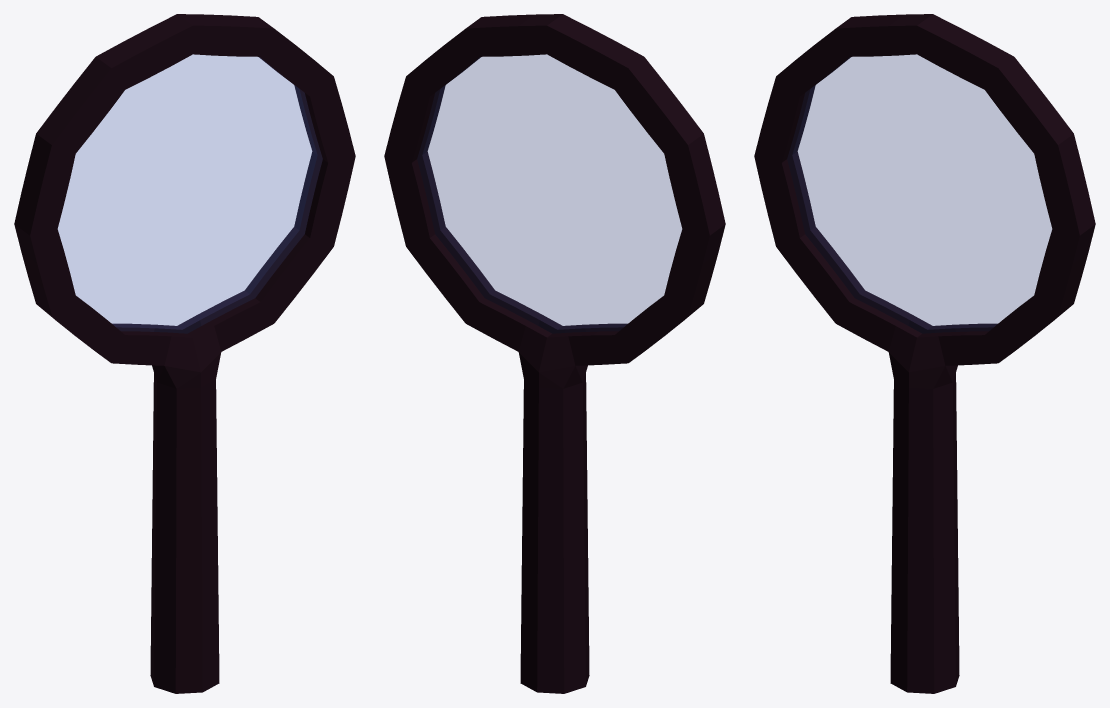
Rendered from magnyfiyng glass.fbx_Collection.fbx.
The picture shows the model from 3 angles, left to right: view 1: azimuth 30°, elevation 25°; view 2: azimuth 150°, elevation 25°; view 3: azimuth 330°, elevation 25°; orthographic projection.
Visible parts, largest first — view 1: Circle; view 2: Circle; view 3: Circle.
Part boxes in pixels (x1,y1,x2,y2): Circle: (14, 14, 355, 693); Circle: (384, 14, 725, 693); Circle: (754, 14, 1095, 693).
Size of the model in its own units: 26.31 by 50.93 by 5.
